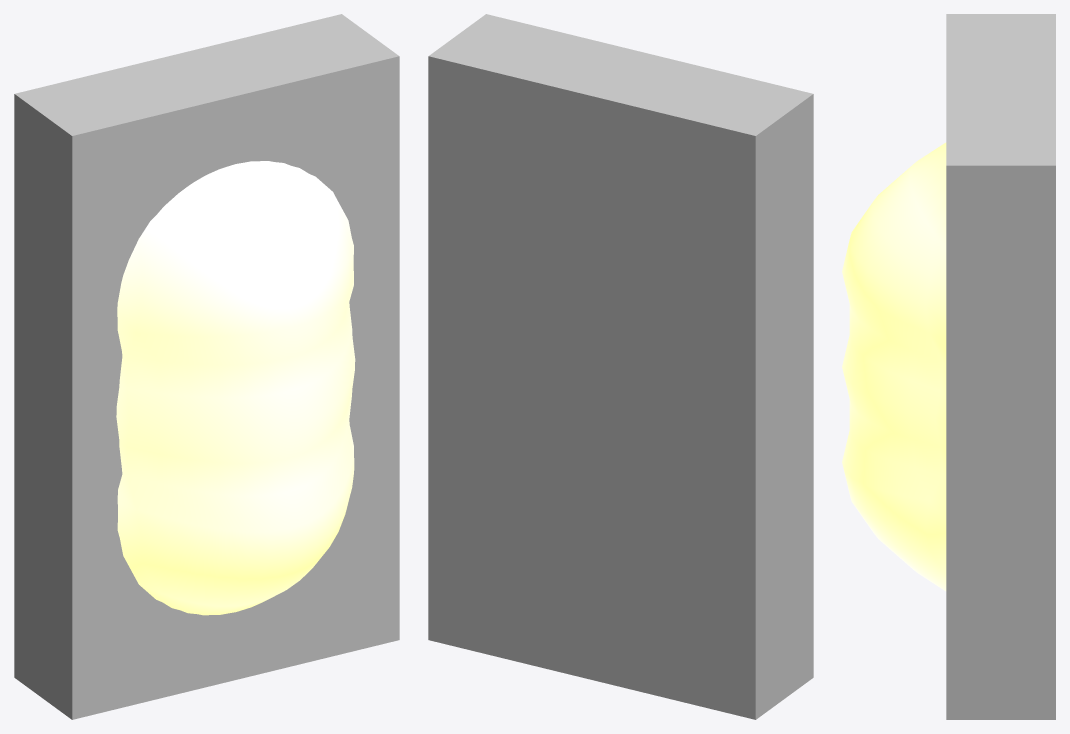
Rendered from cage_wall_light.glb.
3 views of the same model, side by side, from view 1: azimuth 30°, elevation 25°; view 2: azimuth 150°, elevation 25°; view 3: azimuth 270°, elevation 25° (orthographic). The views are drawn at different scales.
Parts seen in each view (by area): view 1: Cube, Cube.001; view 2: Cube; view 3: Cube, Cube.001.
Part boxes in pixels (bbox=[...]): Cube: bbox=[14, 14, 399, 719]; Cube.001: bbox=[116, 161, 355, 615]; Cube: bbox=[428, 14, 813, 719]; Cube: bbox=[946, 14, 1055, 719]; Cube.001: bbox=[842, 142, 946, 591].
Size of the model in its own units: 0.4987 by 0.85 by 0.2973.
